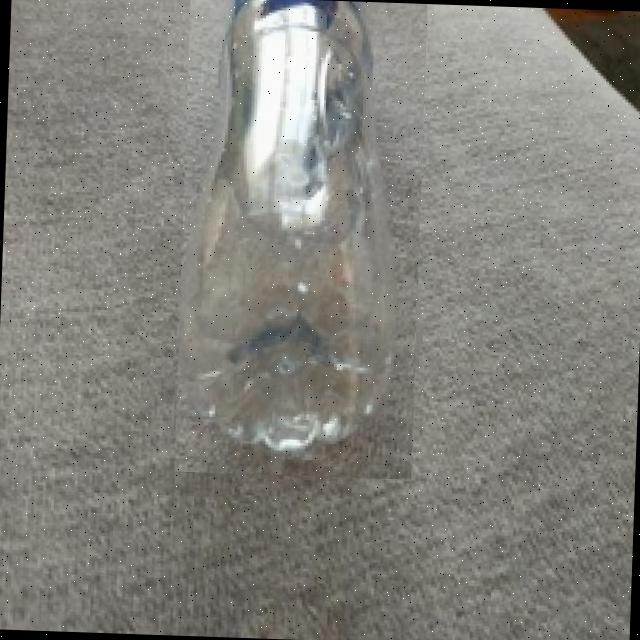bottle: (174, 0, 427, 479)
